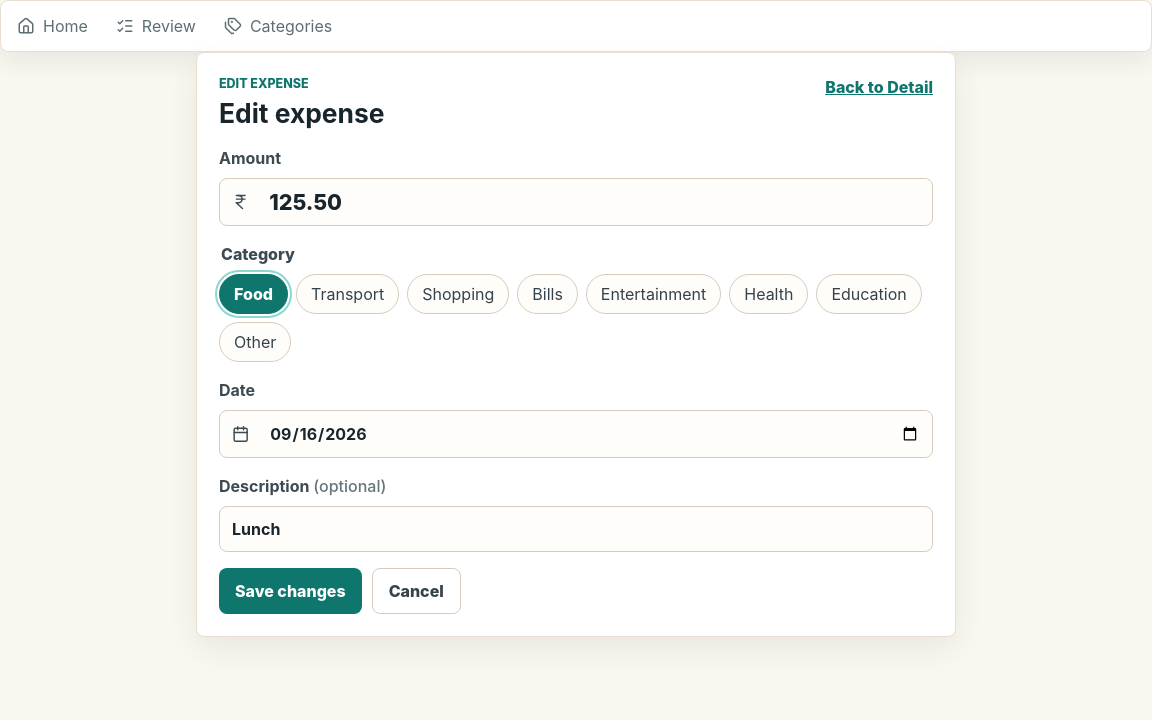
Test: Home shell › maps backend edit validation feedback while preserving entered values
Replace the text in the field labelled "Amount" with "42.00" at (595,202), box [257,179,932,225]
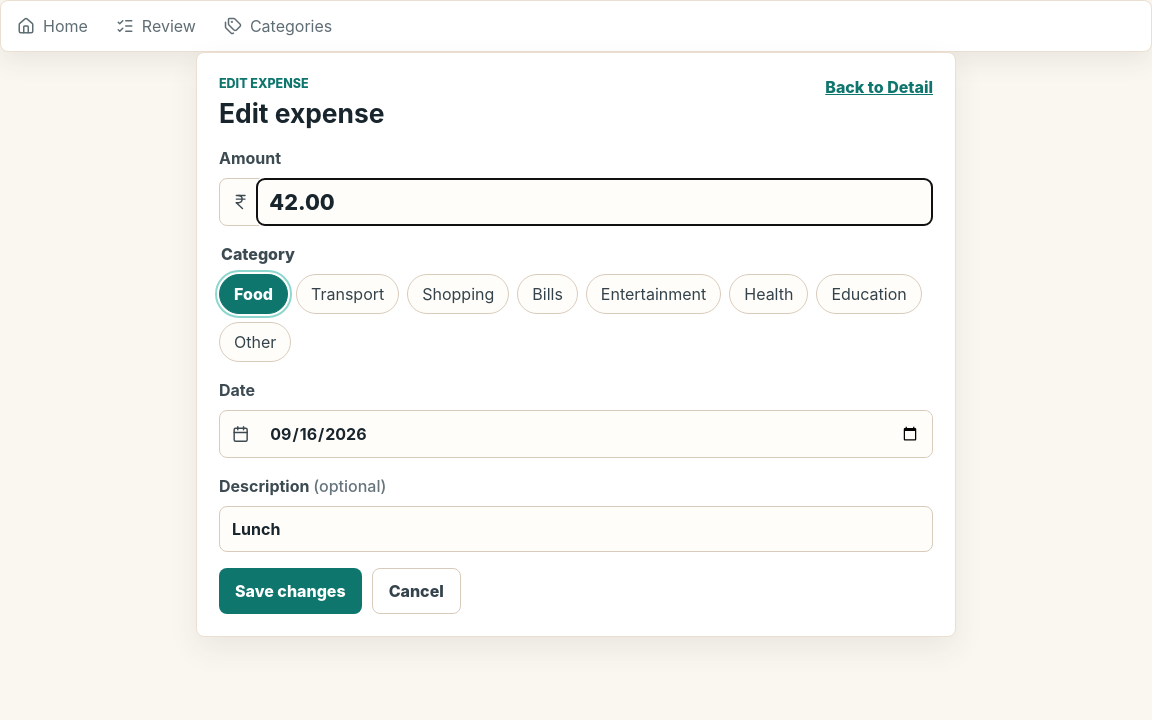
Replace the text in the field labelled "Description (optional)" with "Snacks" at (576,529), box [219,506,933,552]
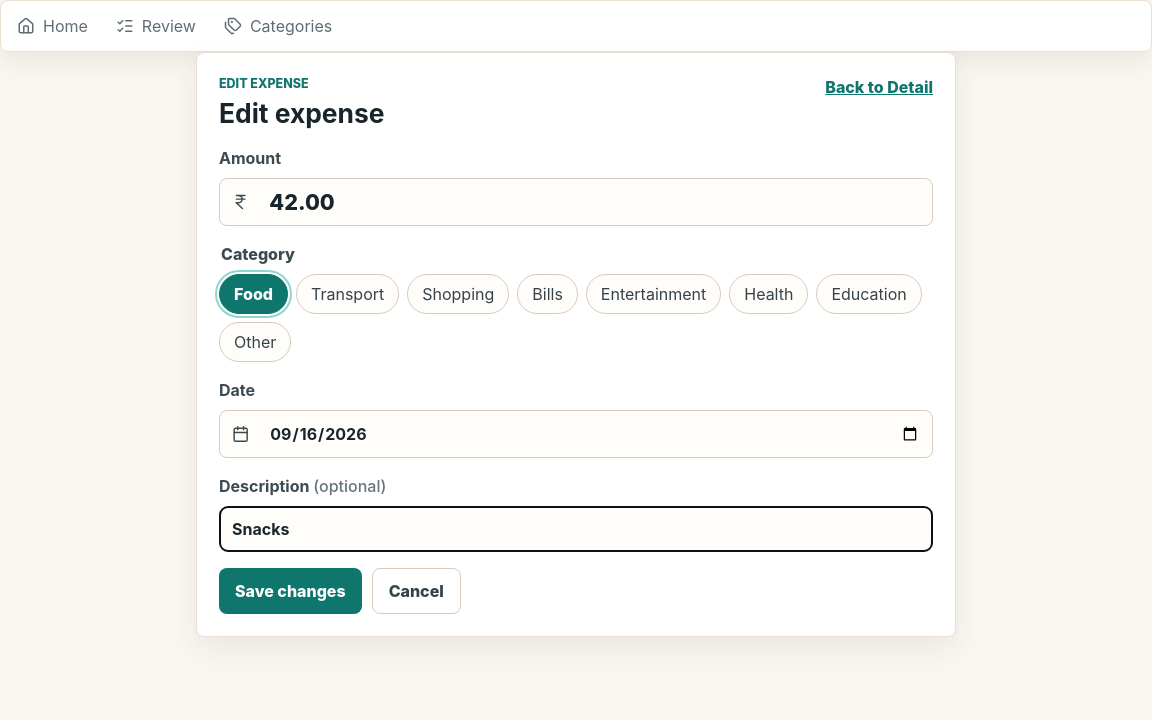
Click the button "Save changes" at (290,591), box [219,568,362,614]
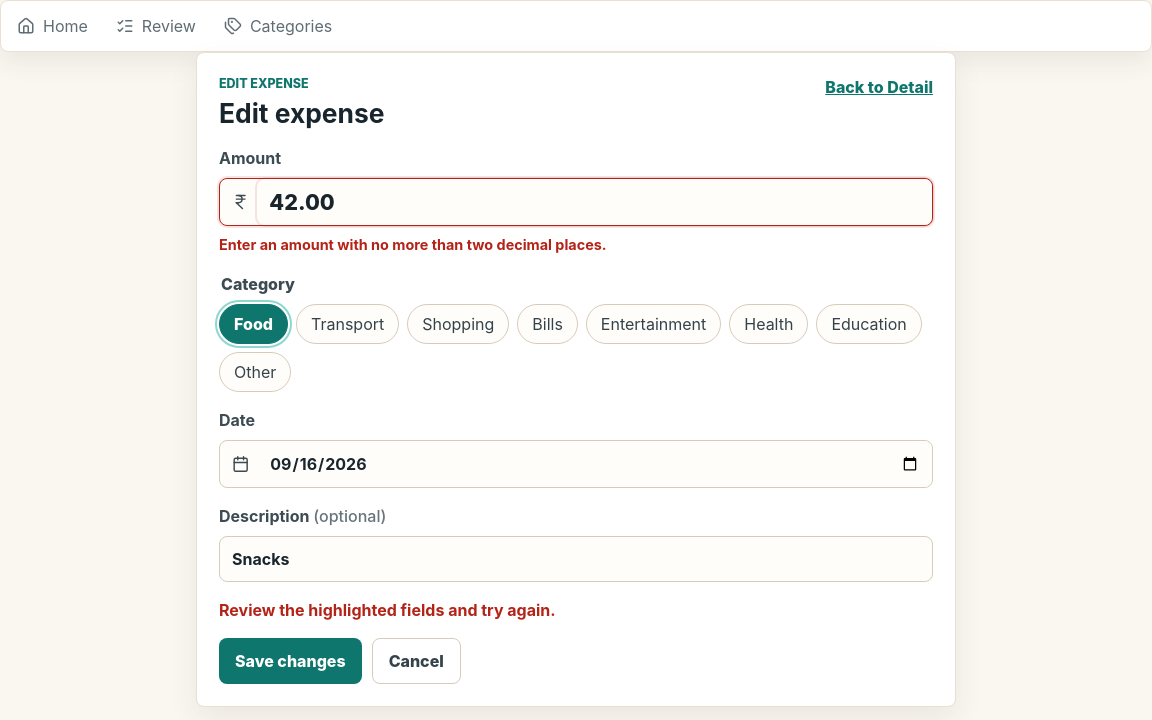
Expected: the text "Enter an amount with no more than two decimal places." is shown, [219,236,607,253]
Expected: the text "Review the highlighted fields and try again." is shown, [219,600,556,620]
